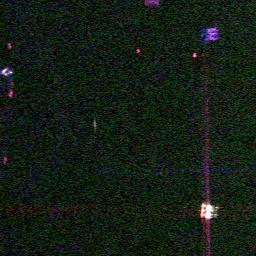Ship: (201, 204, 215, 219)
